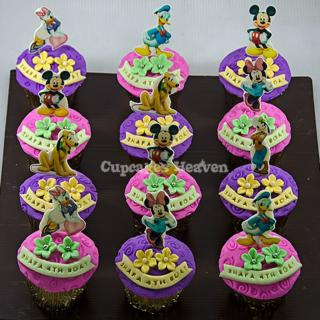Muffin: (13, 227, 99, 313), (115, 232, 198, 315), (216, 229, 300, 309), (214, 162, 297, 232), (18, 166, 98, 232), (17, 102, 91, 170), (123, 161, 203, 222), (215, 100, 291, 162), (216, 42, 292, 104), (17, 43, 88, 109), (114, 43, 190, 99), (118, 106, 192, 162)
